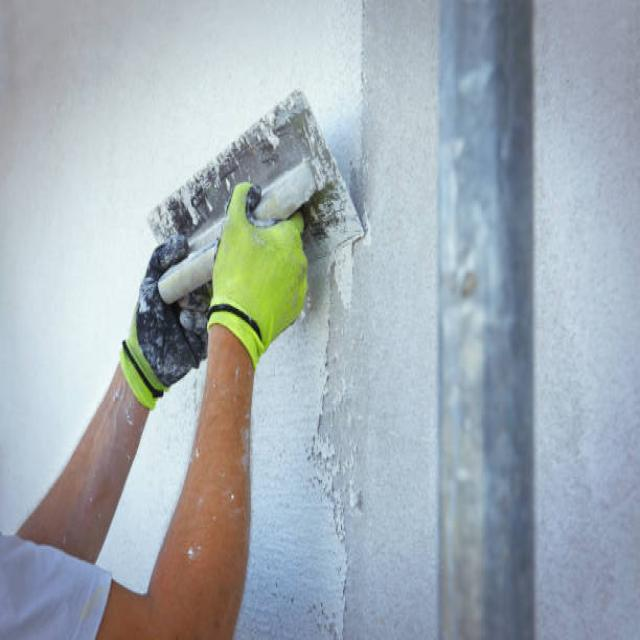gloves: (206, 178, 310, 368), (115, 228, 209, 412)
